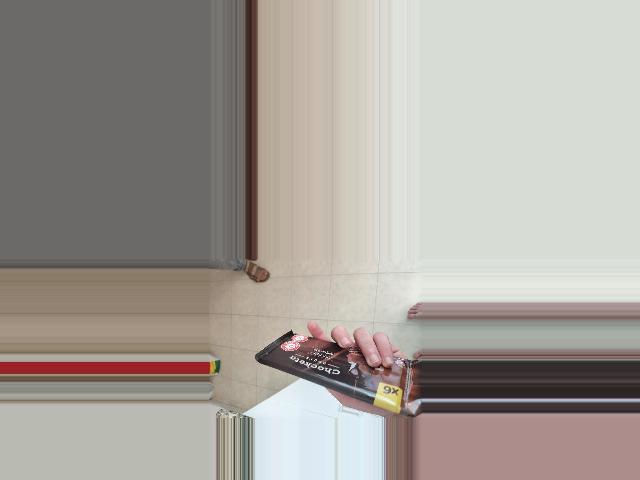chocolate: (258, 333, 422, 406)
